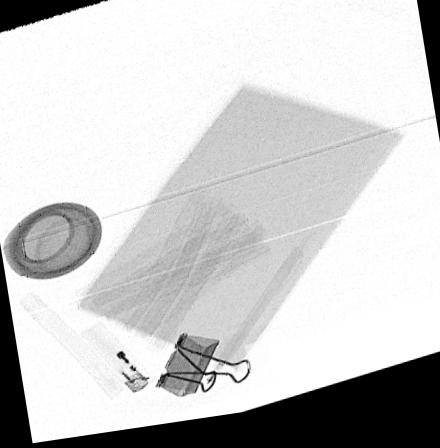Lighter: (78, 324, 156, 397)
